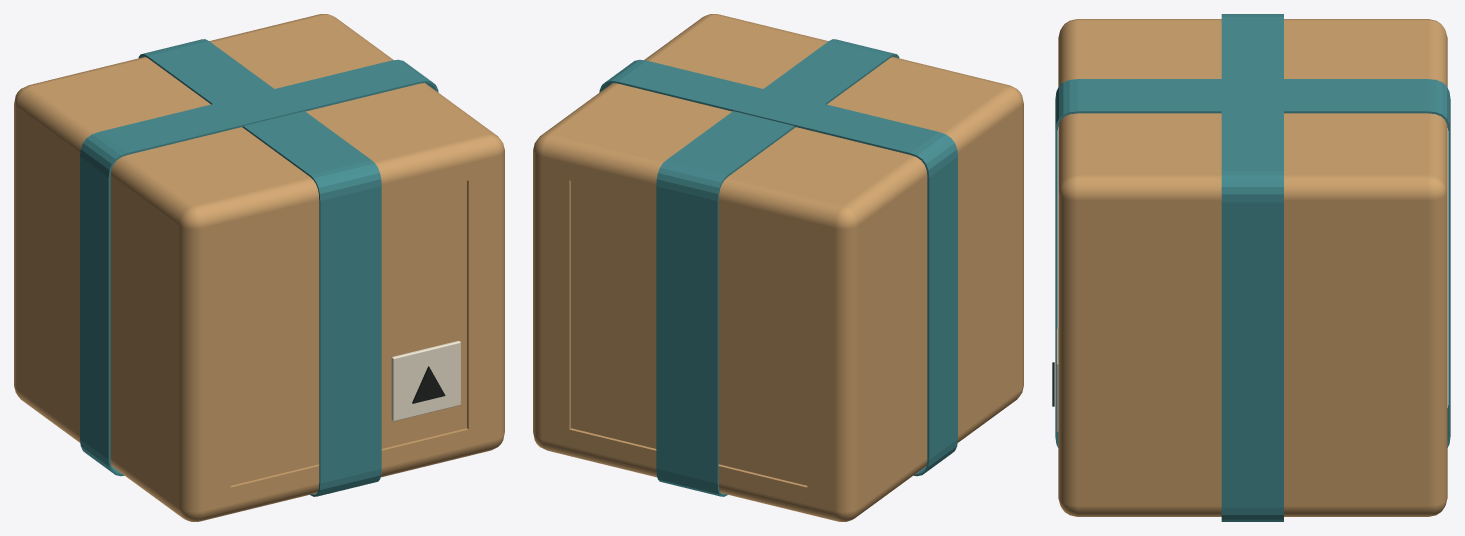
File: play-parcel-small-teal.glb
3 renders of one model, left to right at view 1: azimuth 30°, elevation 25°; view 2: azimuth 150°, elevation 25°; view 3: azimuth 270°, elevation 25°, orthographic. The views are drawn at different scales.
Visible parts, largest first — view 1: Parcel_Carton, Parcel_Tape_Continuous_Front_Back, Parcel_Tape_Continuous_Left_Right, Parcel_Paper_Label, Parcel_Label_Triangle; view 2: Parcel_Carton, Parcel_Tape_Continuous_Front_Back, Parcel_Tape_Continuous_Left_Right; view 3: Parcel_Carton, Parcel_Tape_Continuous_Left_Right, Parcel_Tape_Continuous_Front_Back.
Boxes of the visible parts, <box> form: Parcel_Carton: <box>14,14,504,521</box>; Parcel_Tape_Continuous_Front_Back: <box>138,39,381,496</box>; Parcel_Tape_Continuous_Left_Right: <box>80,59,438,476</box>; Parcel_Paper_Label: <box>391,340,460,421</box>; Parcel_Label_Triangle: <box>412,366,445,403</box>; Parcel_Carton: <box>533,14,1023,521</box>; Parcel_Tape_Continuous_Front_Back: <box>656,39,899,496</box>; Parcel_Tape_Continuous_Left_Right: <box>599,59,957,476</box>; Parcel_Carton: <box>1058,19,1447,516</box>; Parcel_Tape_Continuous_Left_Right: <box>1221,14,1283,521</box>; Parcel_Tape_Continuous_Front_Back: <box>1055,79,1450,447</box>.
Size of the model in its own units: 0.148 by 0.138 by 0.1431.
